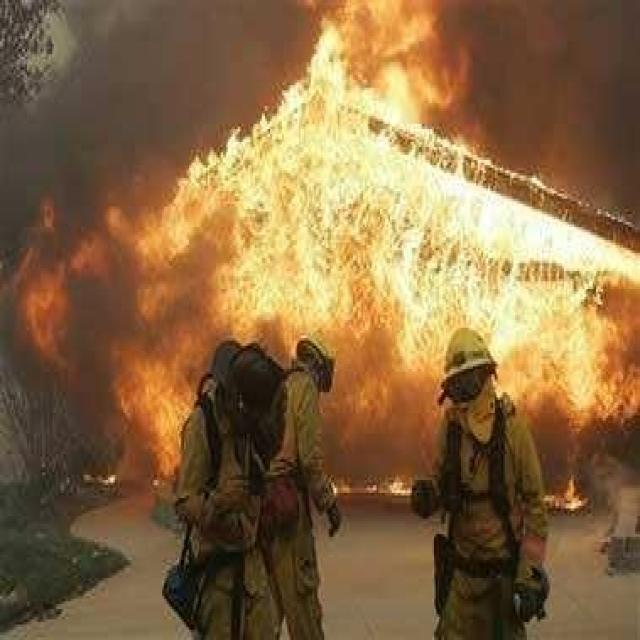fire: (168, 10, 632, 323), (504, 313, 636, 422), (107, 315, 196, 471), (332, 465, 414, 501), (552, 461, 589, 515)
smoke: (13, 22, 164, 195), (470, 23, 618, 159), (182, 24, 266, 113)
